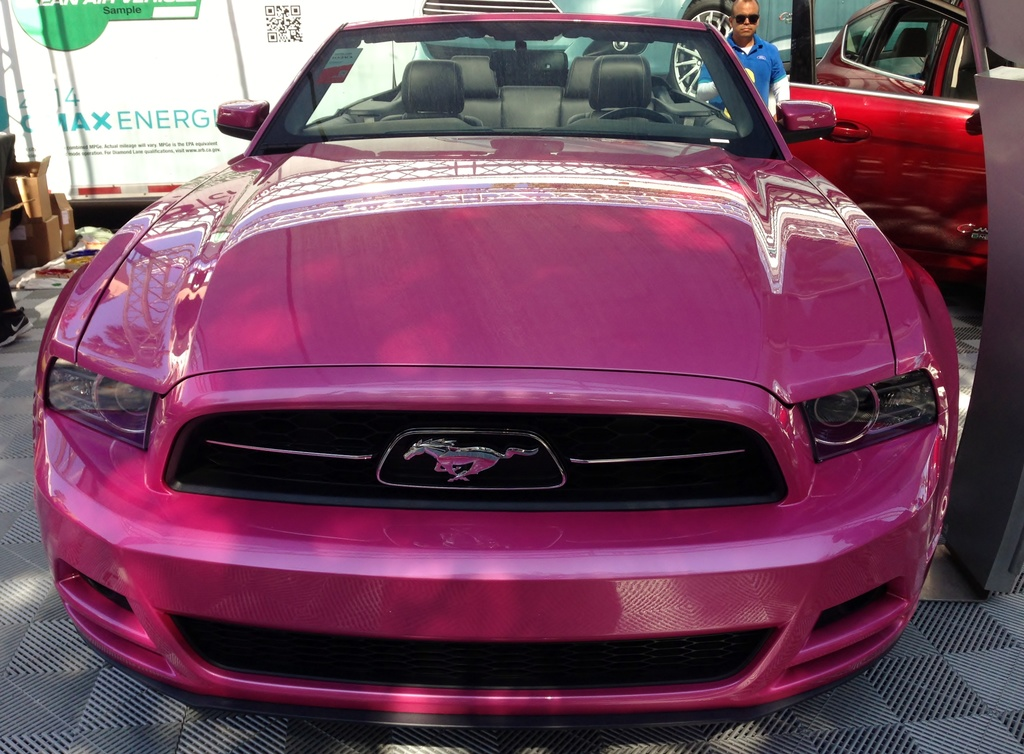Car: (34, 12, 972, 716), (759, 0, 1023, 305), (412, 0, 971, 110)
